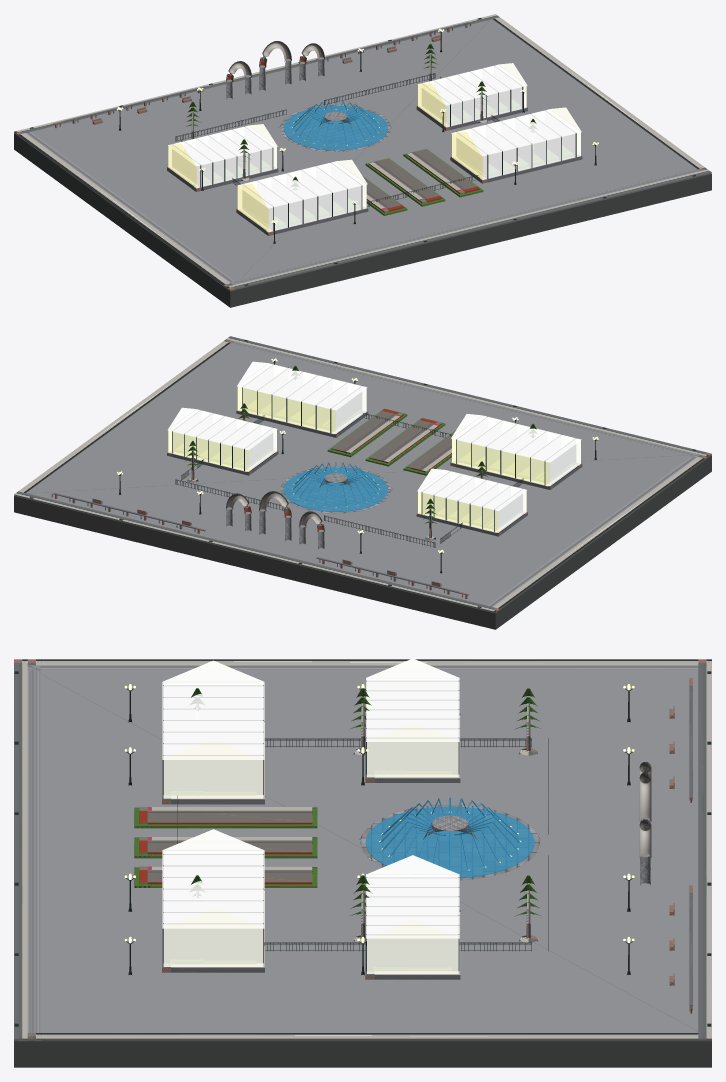
The model's file is ultra_lm_14_vuon_hoa_tp.glb.
3 views of the same model, one above another, from view 1: azimuth 30°, elevation 25°; view 2: azimuth 150°, elevation 25°; view 3: azimuth 270°, elevation 25° (orthographic). The views are drawn at different scales.
Visible parts, largest first — view 1: Mesh_VuonHoa_WetGranite_Promenade_And_FountainBasin, Mesh_VuonHoa_4Orchid_Conservatories_Glass_Blend085, Mesh_VuonHoa_Copernicus_Minus3p5m_SplitStone_Skirt, Mesh_VuonHoa_Lakeside_GraniteBalustrade_Benches_And_WormBric, Mesh_VuonHoa_ConservatoryTrusses_5GlobeLamps_And_Gates, Mesh_VuonHoa_3Span_FloralArch_And_FlowerSculptures, Mesh_VuonHoa_24Jet_GrandFountain_Water_Blend085, Mesh_VuonHoa_Botanical_Parterre_Lawn_And_Topiary; view 2: Mesh_VuonHoa_WetGranite_Promenade_And_FountainBasin, Mesh_VuonHoa_4Orchid_Conservatories_Glass_Blend085, Mesh_VuonHoa_Lakeside_GraniteBalustrade_Benches_And_WormBric, Mesh_VuonHoa_Copernicus_Minus3p5m_SplitStone_Skirt, Mesh_VuonHoa_ConservatoryTrusses_5GlobeLamps_And_Gates, Mesh_VuonHoa_3Span_FloralArch_And_FlowerSculptures, Mesh_VuonHoa_24Jet_GrandFountain_Water_Blend085, Mesh_VuonHoa_Botanical_Parterre_Lawn_And_Topiary; view 3: Mesh_VuonHoa_WetGranite_Promenade_And_FountainBasin, Mesh_VuonHoa_4Orchid_Conservatories_Glass_Blend085, Mesh_VuonHoa_Lakeside_GraniteBalustrade_Benches_And_WormBric, Mesh_VuonHoa_Copernicus_Minus3p5m_SplitStone_Skirt, Mesh_VuonHoa_ConservatoryTrusses_5GlobeLamps_And_Gates, Mesh_VuonHoa_24Jet_GrandFountain_Water_Blend085, Mesh_VuonHoa_3Span_FloralArch_And_FlowerSculptures, Mesh_VuonHoa_Botanical_Parterre_Lawn_And_Topiary.
Boxes of the visible parts, left/top/right/bottom form: Mesh_VuonHoa_WetGranite_Promenade_And_FountainBasin: left=26, top=19, right=710, bottom=290; Mesh_VuonHoa_4Orchid_Conservatories_Glass_Blend085: left=168, top=63, right=581, bottom=232; Mesh_VuonHoa_Copernicus_Minus3p5m_SplitStone_Skirt: left=14, top=133, right=711, bottom=307; Mesh_VuonHoa_Lakeside_GraniteBalustrade_Benches_And_WormBric: left=14, top=14, right=711, bottom=290; Mesh_VuonHoa_ConservatoryTrusses_5GlobeLamps_And_Gates: left=30, top=18, right=695, bottom=285; Mesh_VuonHoa_3Span_FloralArch_And_FlowerSculptures: left=226, top=41, right=479, bottom=212; Mesh_VuonHoa_24Jet_GrandFountain_Water_Blend085: left=283, top=100, right=388, bottom=150; Mesh_VuonHoa_Botanical_Parterre_Lawn_And_Topiary: left=174, top=43, right=572, bottom=229; Mesh_VuonHoa_WetGranite_Promenade_And_FountainBasin: left=15, top=341, right=699, bottom=612; Mesh_VuonHoa_4Orchid_Conservatories_Glass_Blend085: left=167, top=361, right=581, bottom=532; Mesh_VuonHoa_Lakeside_GraniteBalustrade_Benches_And_WormBric: left=14, top=336, right=711, bottom=612; Mesh_VuonHoa_Copernicus_Minus3p5m_SplitStone_Skirt: left=14, top=455, right=711, bottom=629; Mesh_VuonHoa_ConservatoryTrusses_5GlobeLamps_And_Gates: left=30, top=340, right=695, bottom=607; Mesh_VuonHoa_3Span_FloralArch_And_FlowerSculptures: left=226, top=409, right=455, bottom=531; Mesh_VuonHoa_24Jet_GrandFountain_Water_Blend085: left=283, top=462, right=388, bottom=511; Mesh_VuonHoa_Botanical_Parterre_Lawn_And_Topiary: left=175, top=365, right=574, bottom=529; Mesh_VuonHoa_WetGranite_Promenade_And_FountainBasin: left=15, top=665, right=710, bottom=1040; Mesh_VuonHoa_4Orchid_Conservatories_Glass_Blend085: left=162, top=658, right=459, bottom=973; Mesh_VuonHoa_Lakeside_GraniteBalustrade_Benches_And_WormBric: left=14, top=659, right=711, bottom=1039; Mesh_VuonHoa_Copernicus_Minus3p5m_SplitStone_Skirt: left=14, top=1040, right=711, bottom=1067; Mesh_VuonHoa_ConservatoryTrusses_5GlobeLamps_And_Gates: left=14, top=671, right=711, bottom=1026; Mesh_VuonHoa_24Jet_GrandFountain_Water_Blend085: left=365, top=797, right=534, bottom=877; Mesh_VuonHoa_3Span_FloralArch_And_FlowerSculptures: left=139, top=762, right=651, bottom=884; Mesh_VuonHoa_Botanical_Parterre_Lawn_And_Topiary: left=134, top=688, right=540, bottom=970.
Size of the model in its own units: 108 by 13.78 by 84.
Materials: 9 (4 with a texture image).
